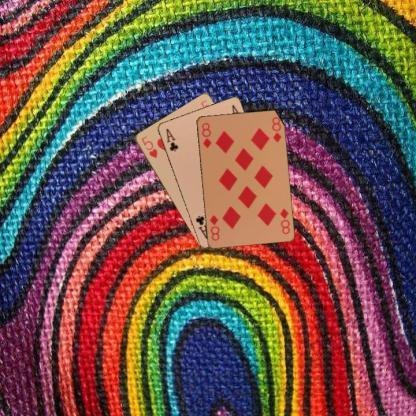5h: (138, 132, 158, 160)
8d: (198, 120, 212, 150), (276, 206, 290, 235)
Ac: (164, 126, 180, 152)
